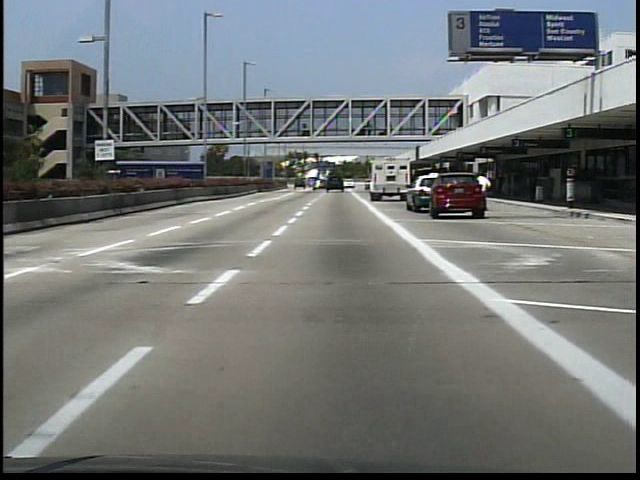person: (474, 170, 493, 212)
